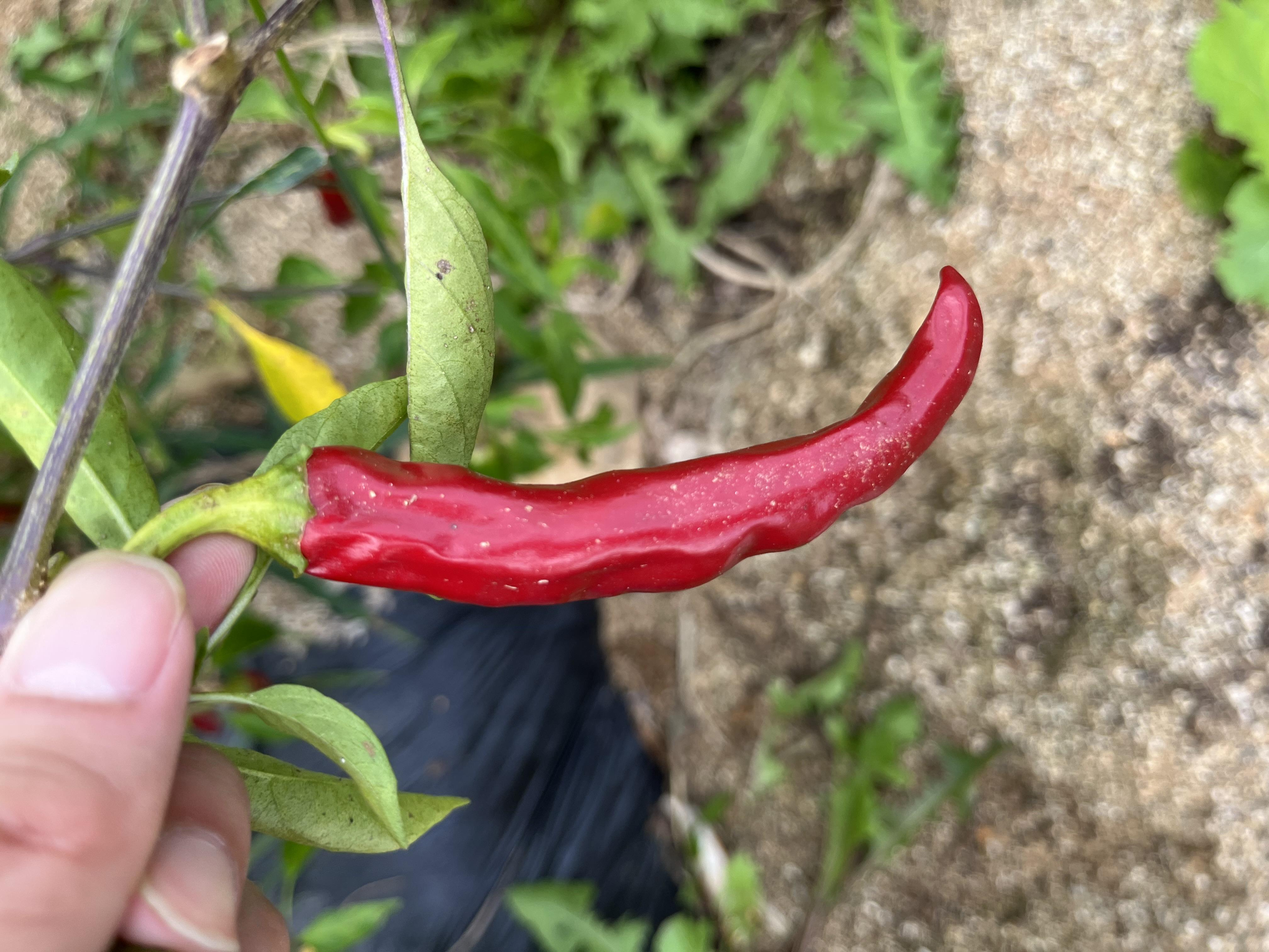Buah Cabai Sehat: (251, 261, 986, 612)
